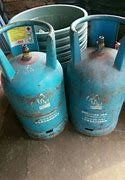blue_gas: (1, 21, 69, 140), (70, 15, 124, 137)
